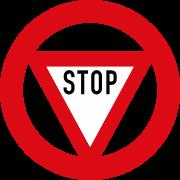Stop: (2, 20, 172, 163)
